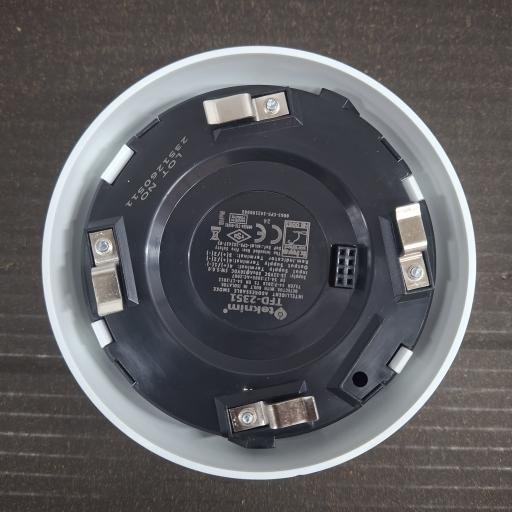yaysiz: (213, 379, 322, 451), (82, 214, 140, 315), (385, 195, 438, 299), (201, 89, 292, 127)
